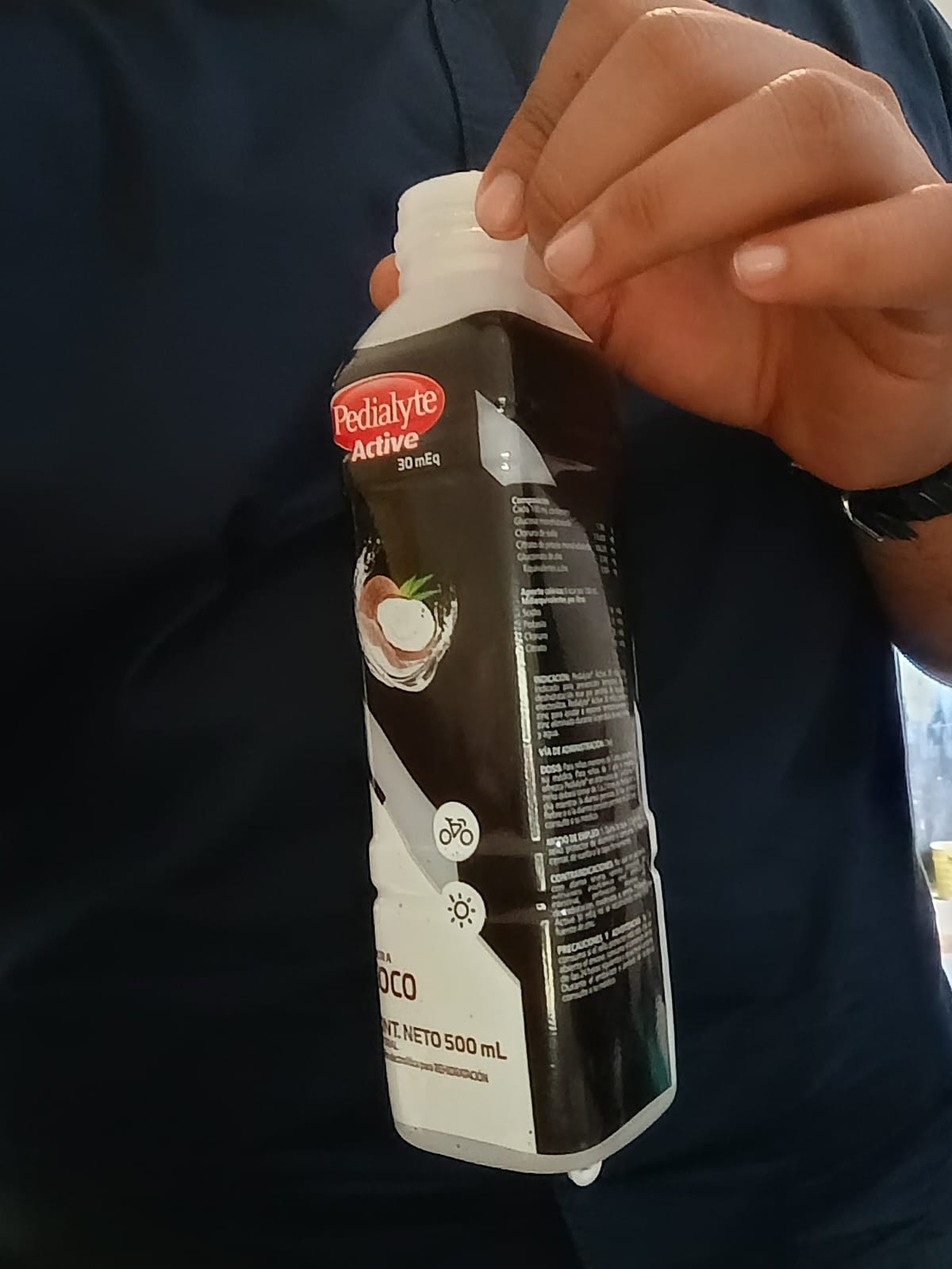Plastico: (326, 170, 680, 1172)
